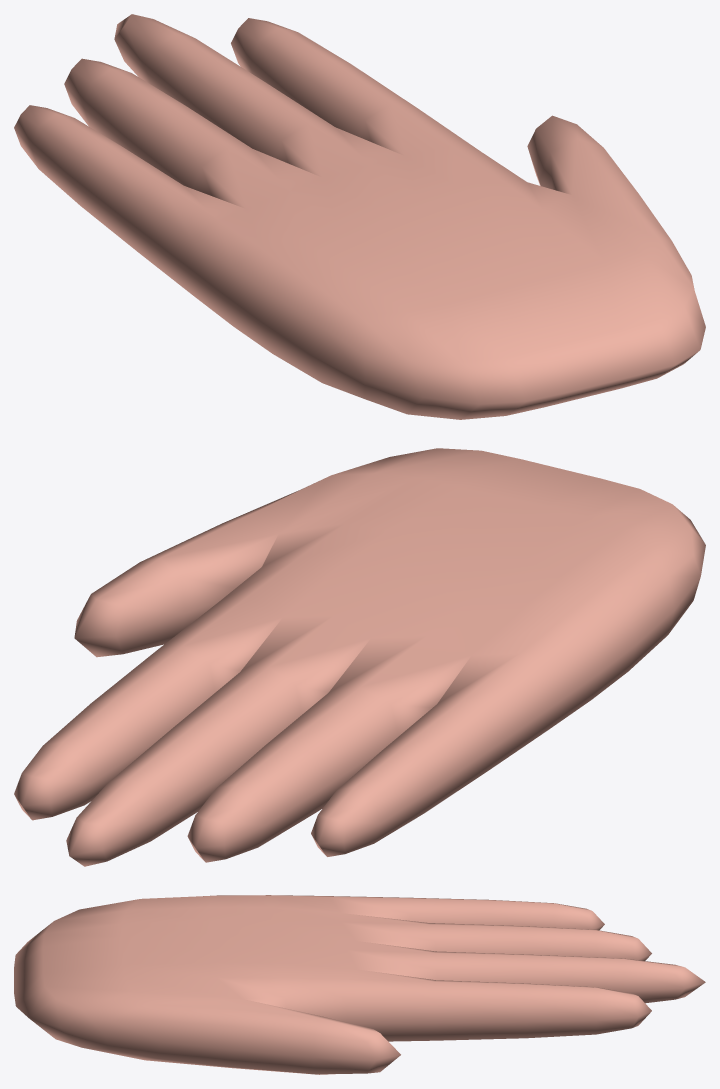
Rendered from hamd.fbx.
3 renders of one model, top to bottom at view 1: azimuth 30°, elevation 25°; view 2: azimuth 150°, elevation 25°; view 3: azimuth 270°, elevation 25°, orthographic. The views are drawn at different scales.
Parts seen in each view (by area): view 1: Cube; view 2: Cube; view 3: Cube.
Part boxes in pixels (x1,y1,x2,y2): Cube: (14, 14, 705, 419); Cube: (14, 448, 705, 866); Cube: (14, 895, 705, 1074).
Size of the model in its own units: 187 by 39.51 by 371.
